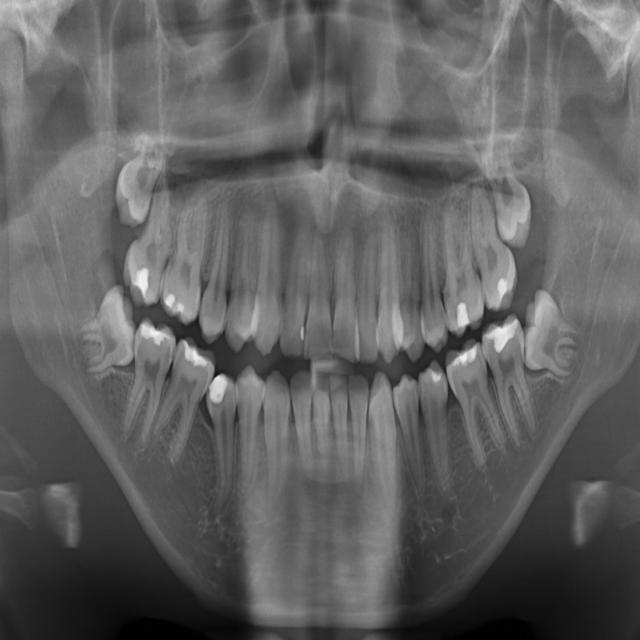CompositeResinRestoration: (485, 310, 517, 360), (450, 332, 475, 378), (138, 321, 168, 351), (180, 334, 208, 366), (209, 372, 230, 409), (133, 267, 153, 301), (426, 368, 443, 392), (496, 267, 507, 302), (455, 301, 468, 329), (161, 288, 177, 307), (178, 297, 187, 322), (298, 316, 306, 344)
DentalCaries: (436, 300, 452, 330), (165, 338, 176, 370), (203, 384, 212, 414), (331, 335, 341, 351)
ImpactedTooth: (522, 284, 584, 393), (75, 290, 136, 380)
